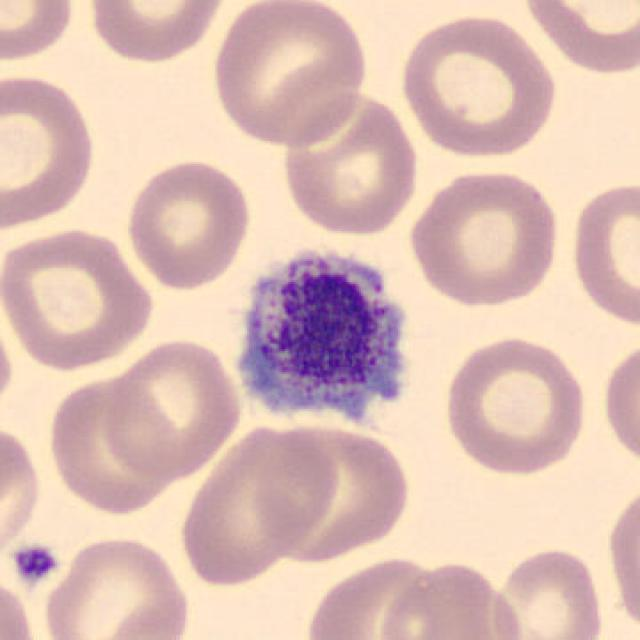Platelets: (226, 239, 424, 443), (9, 540, 62, 587)
RBC: (174, 418, 326, 592), (395, 9, 560, 160), (208, 0, 373, 148), (251, 420, 416, 564), (0, 224, 158, 372), (406, 164, 566, 309), (439, 332, 592, 479), (277, 88, 423, 238), (98, 334, 245, 482), (43, 370, 185, 517), (121, 155, 254, 293), (42, 532, 196, 640), (0, 69, 100, 232), (302, 552, 452, 640), (375, 557, 525, 640), (491, 543, 608, 640), (567, 176, 638, 330), (84, 0, 231, 65), (519, 0, 638, 78), (0, 418, 44, 561), (602, 477, 640, 636), (599, 335, 638, 474), (0, 0, 78, 67), (0, 571, 48, 640), (0, 302, 18, 423)
